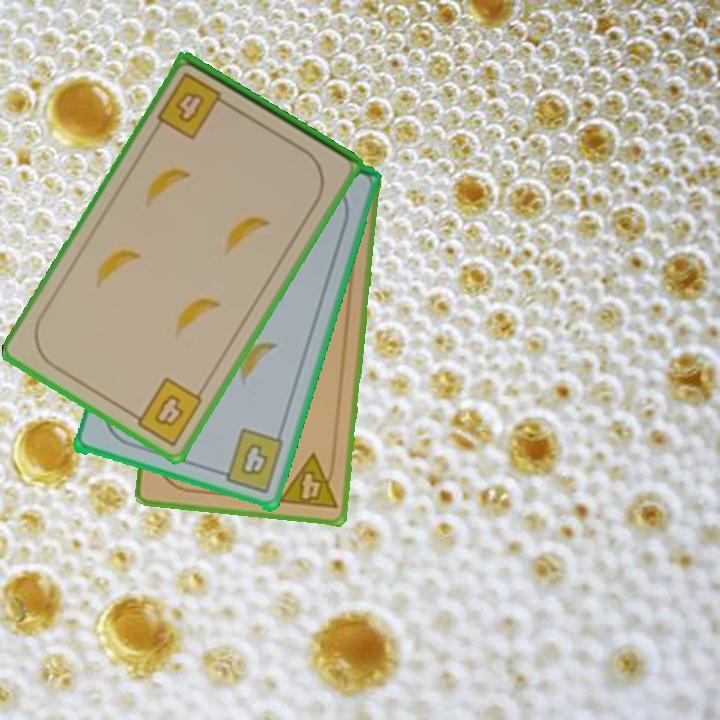4b: (153, 69, 235, 143), (126, 374, 206, 449), (212, 426, 287, 497)
4p: (274, 450, 340, 513)
